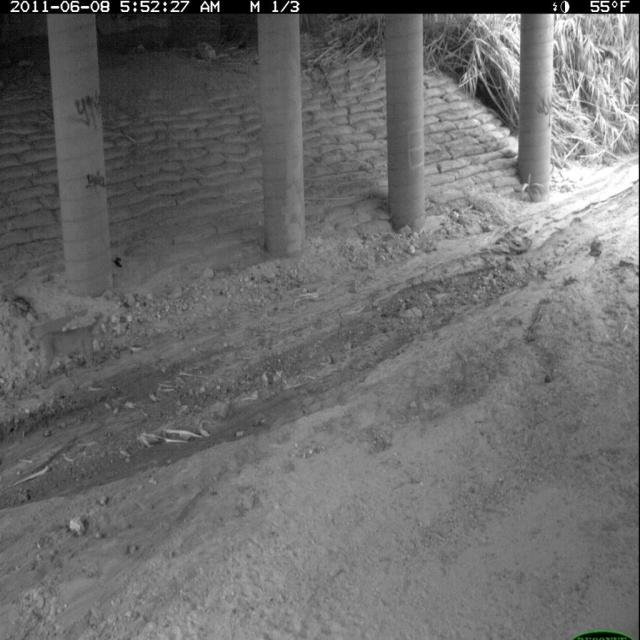bobcat: (29, 315, 113, 395)
